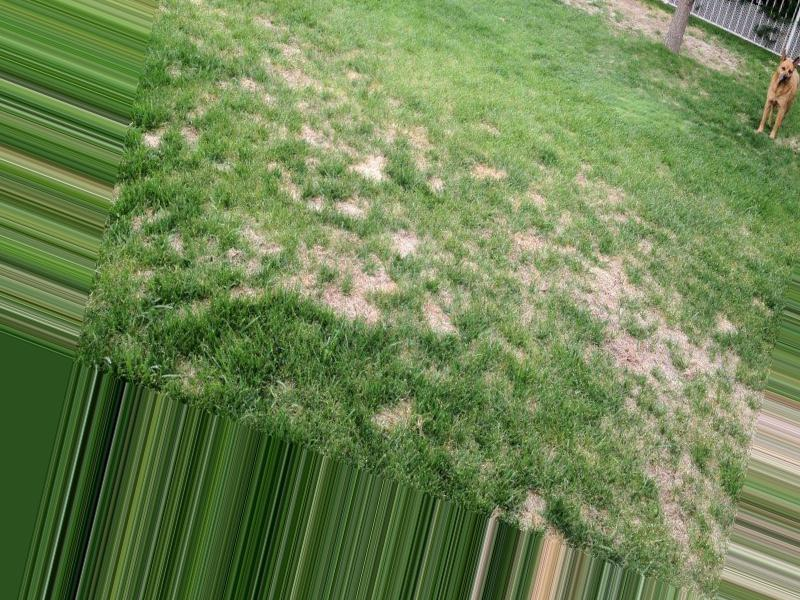patch: (233, 111, 324, 174), (317, 256, 390, 325), (632, 359, 688, 437), (379, 393, 451, 452), (287, 45, 351, 106), (366, 158, 422, 226), (580, 253, 639, 317), (162, 218, 225, 276), (637, 475, 698, 532), (516, 490, 570, 513)
